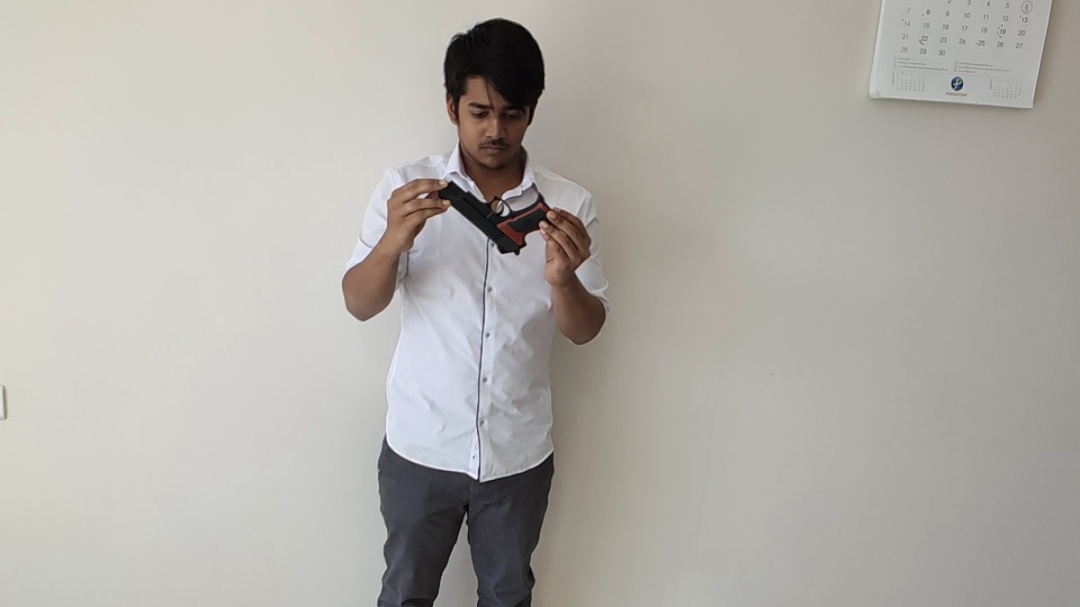gun: (442, 181, 548, 258)
